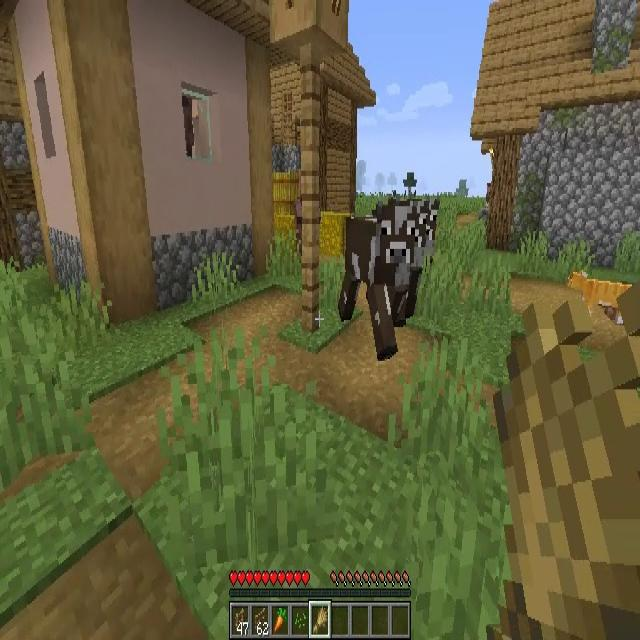cow: (339, 208, 422, 358), (414, 199, 437, 270)
